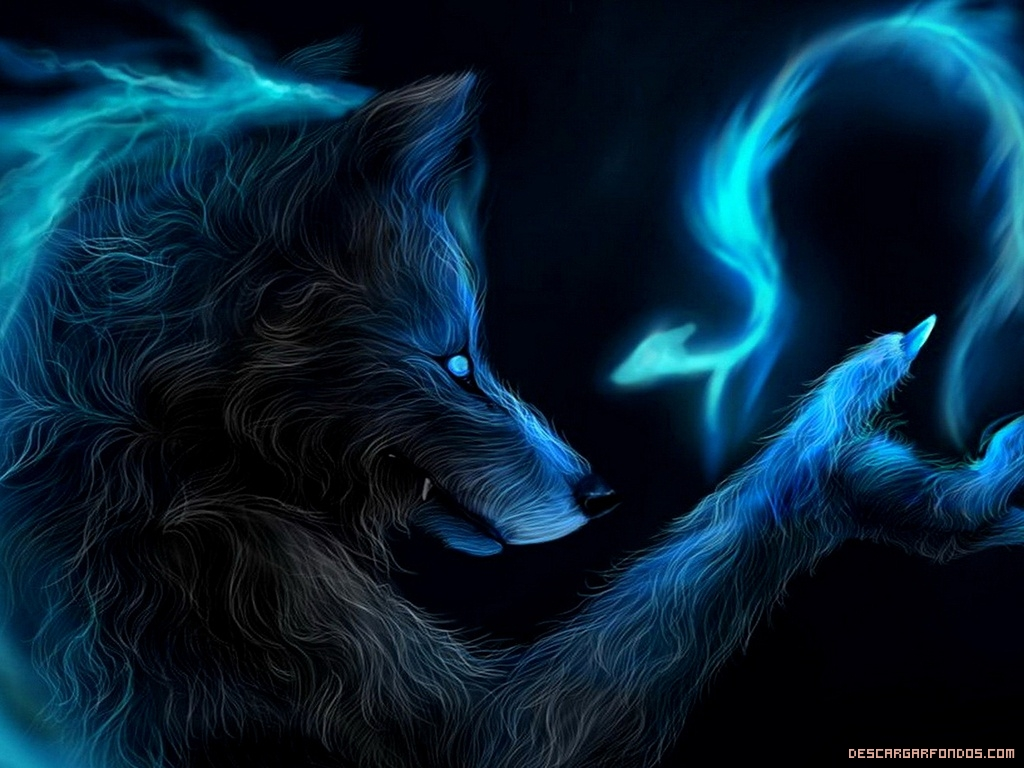Lobo: (19, 43, 623, 593)
